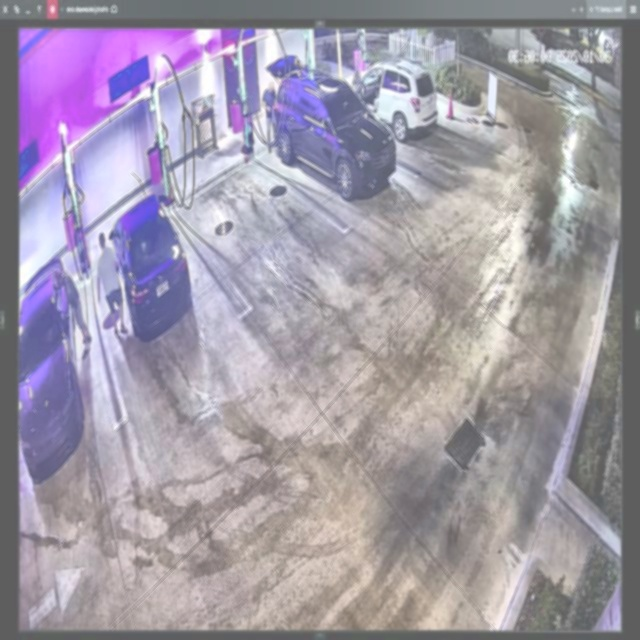Car: (270, 55, 397, 194), (109, 192, 189, 338)
